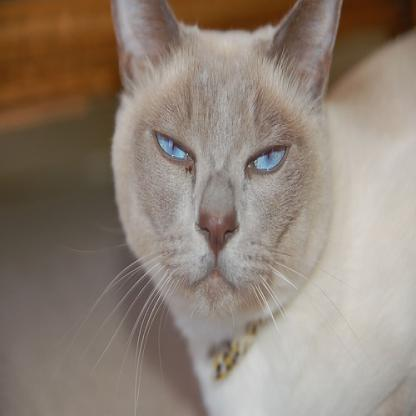cat: (110, 0, 415, 415)
